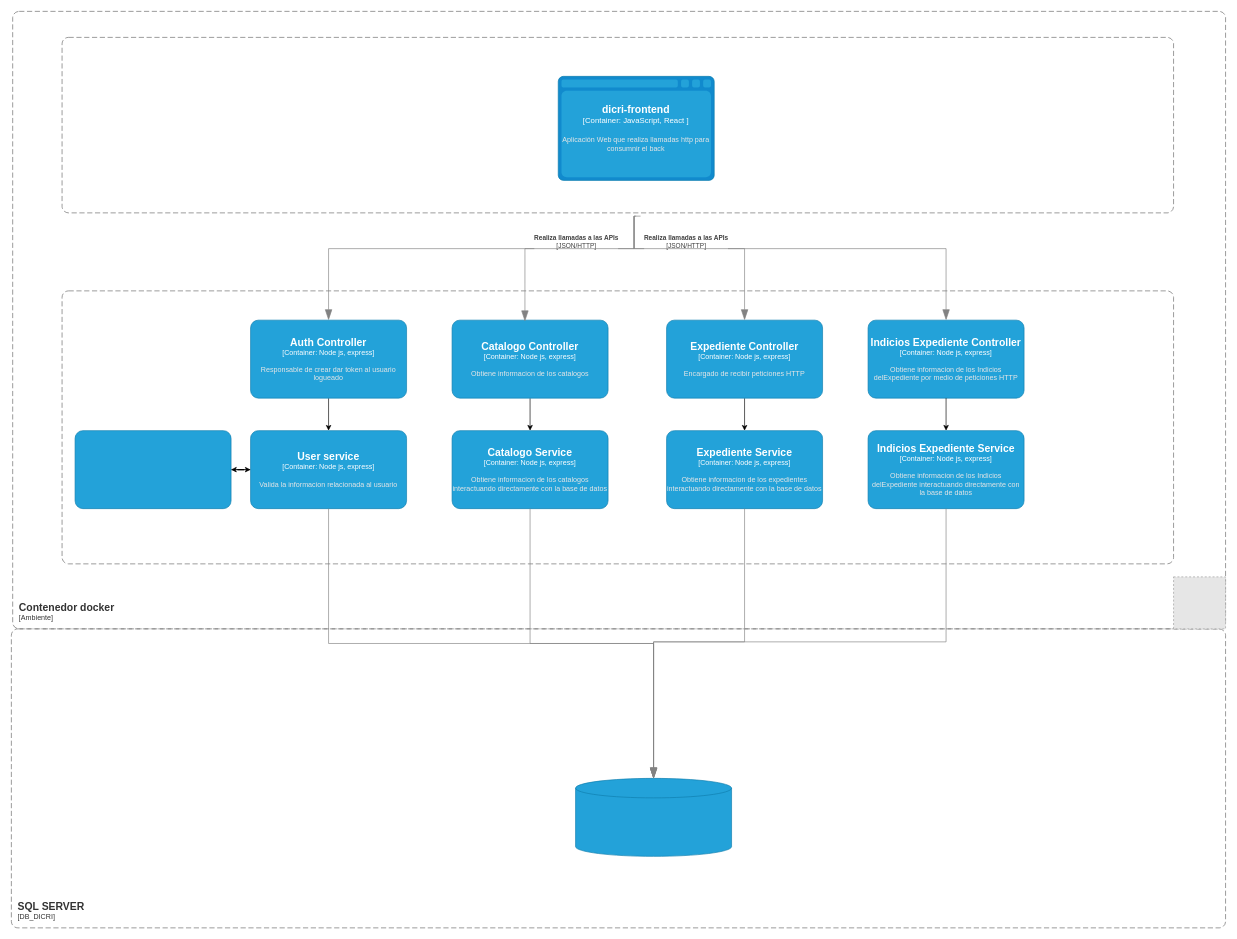
Some shapes in this 1237 by 939 pixel diagram are drawn without their labels. Grey dashed boxes stand in for pictures. Here are the shapes that lost their labels. From the top down, the box of each, then its label:
(61, 37, 1174, 213): frontend [dicri-frontend]
(61, 290, 1174, 564): backend [dicri-backend]
(74, 430, 231, 509): jwt service [Container: Node js, express, jwt] Encargado de generar token JWT
(575, 778, 732, 856): DICRI [Container: SQL SERVER ] Almacena el esquema principal de la aplicacion.
